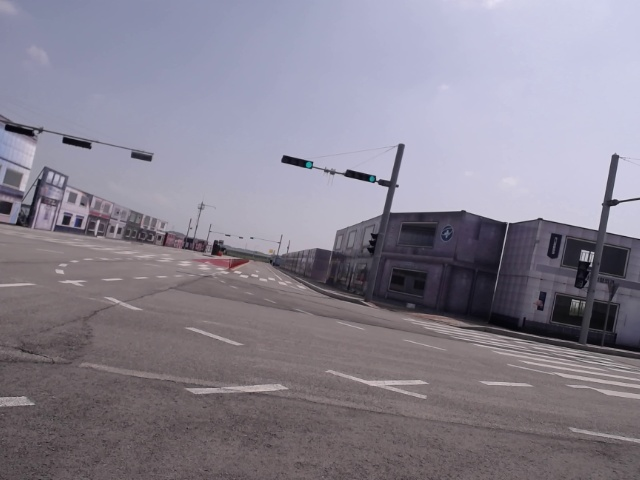straight_green_4: (342, 168, 378, 183), (281, 155, 315, 169)
